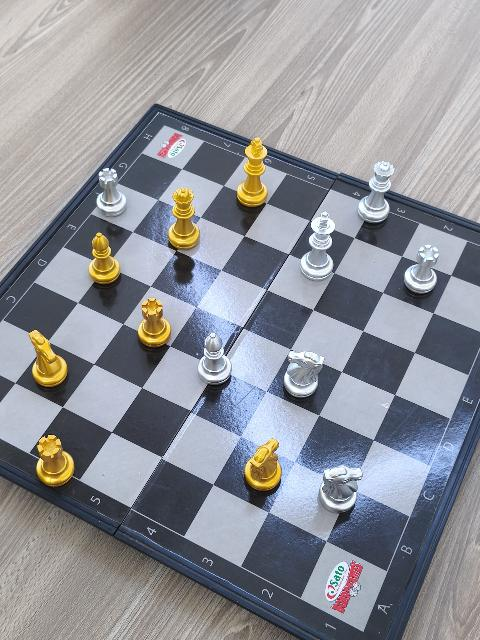black_bishop: (88, 233, 122, 288)
black_king: (236, 139, 269, 208)
black_knight: (28, 329, 69, 391), (244, 439, 283, 494)
black_queen: (168, 187, 201, 250)
black_rook: (35, 433, 75, 490), (137, 297, 172, 350)
white_bishop: (198, 332, 232, 389)
white_king: (300, 212, 336, 282)
white_knight: (316, 465, 364, 518), (281, 350, 326, 402)
white_queen: (357, 160, 395, 225)
white_rook: (403, 243, 441, 297), (96, 166, 126, 216)
